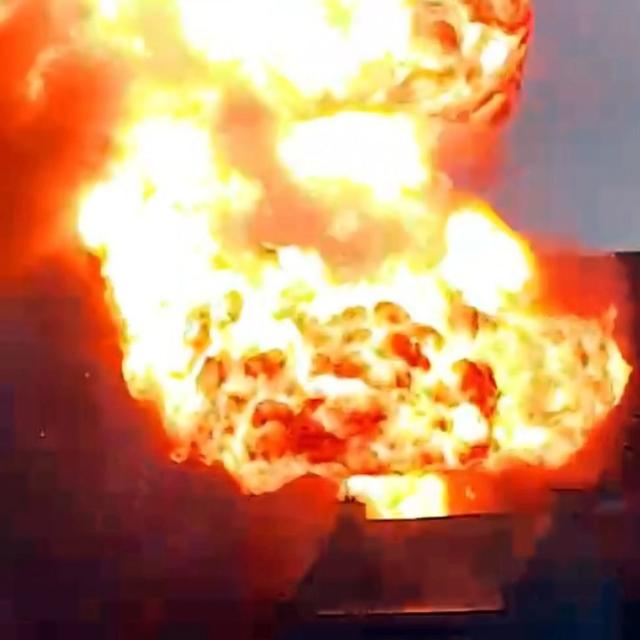fire: (62, 1, 597, 458)
